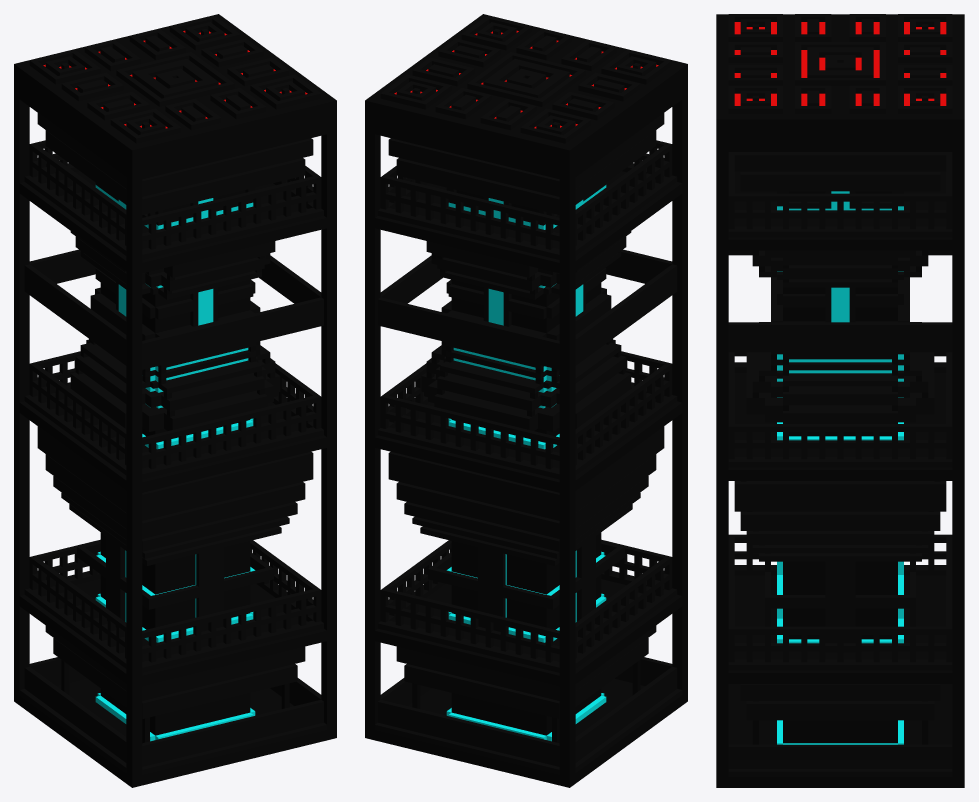
Rendered from BossFloor1.FBX.
The picture shows the model from 3 angles, left to right: view 1: azimuth 30°, elevation 25°; view 2: azimuth 150°, elevation 25°; view 3: azimuth 270°, elevation 25°; orthographic projection. The views are drawn at different scales.
Visible parts, largest first — view 1: BossFloor1; view 2: BossFloor1; view 3: BossFloor1.
Boxes of the visible parts, x1,y1,x2,y2 form: BossFloor1: (14,14,336,787); BossFloor1: (365,14,687,787); BossFloor1: (716,14,964,787).
Size of the model in its own units: 41 by 41 by 123.
